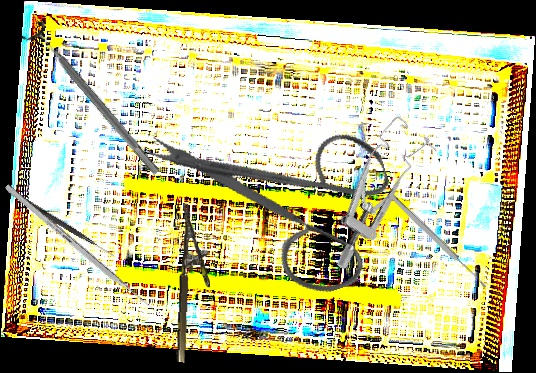Fixation Ring: (19, 17, 169, 183)
Hook Surgical: (6, 188, 116, 258)
Iris Scissors: (143, 71, 416, 333)
Needle Holder: (174, 203, 215, 364)
Pusher: (4, 183, 161, 318)
Speculum: (296, 112, 449, 272)
Surgical Spoon: (387, 191, 488, 290)
